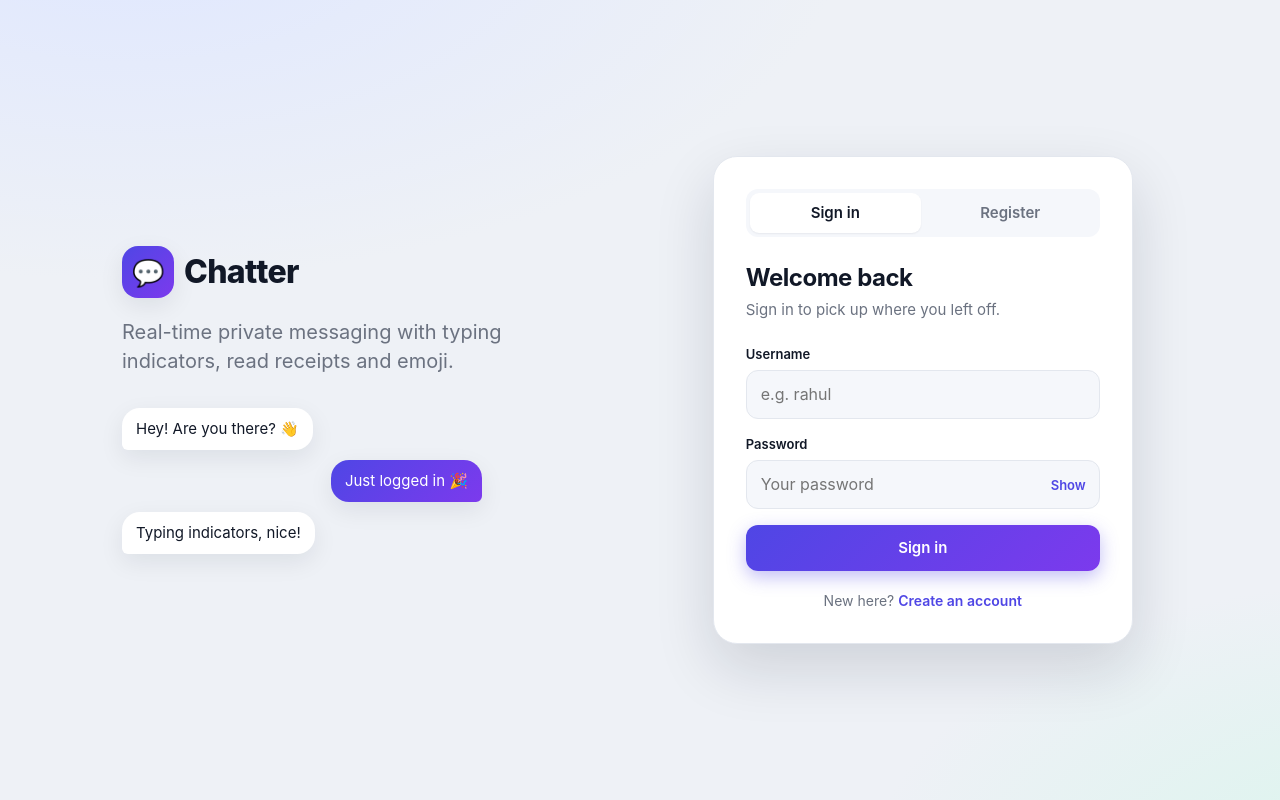
Test: switches to the register form
The image size is (1280, 800).
Click the tab "Register" at (1010, 213), box [925, 193, 1096, 233]
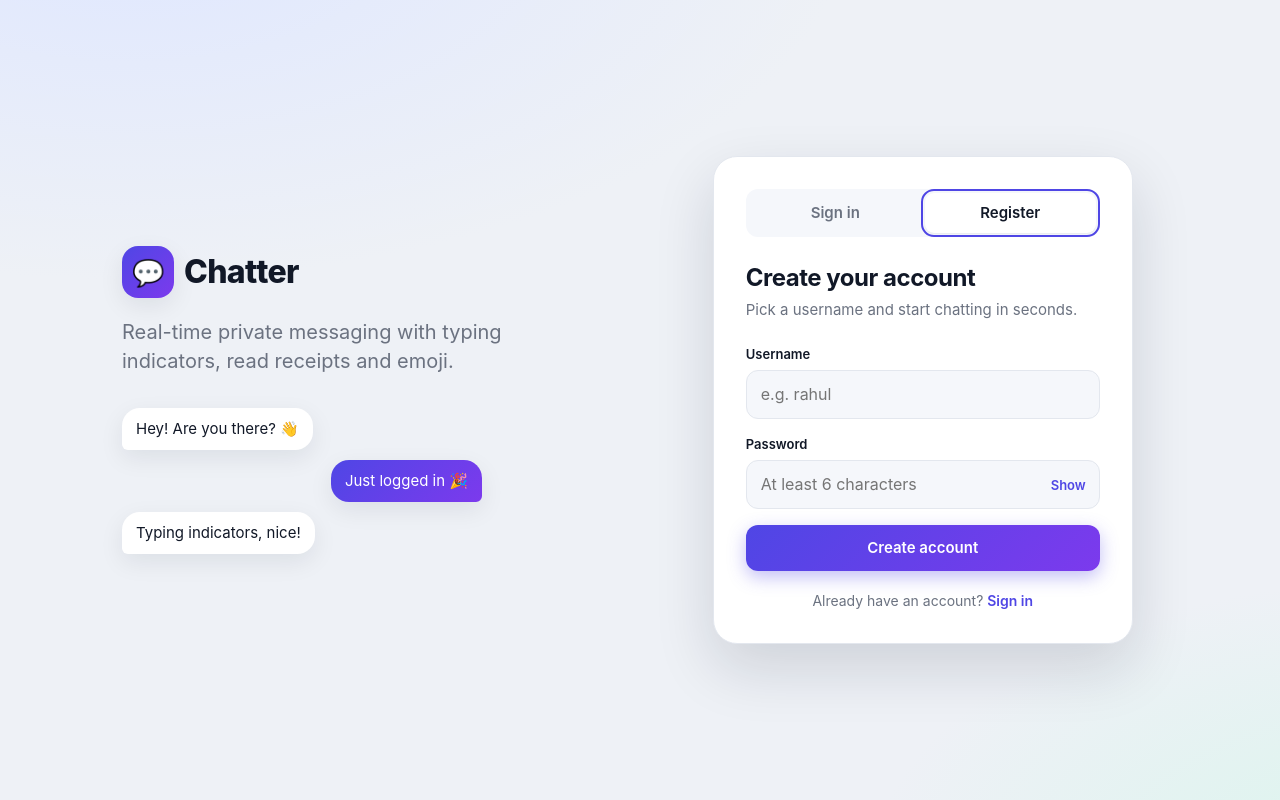
Result: the heading "Create your account" is shown at [746, 262, 975, 292]
